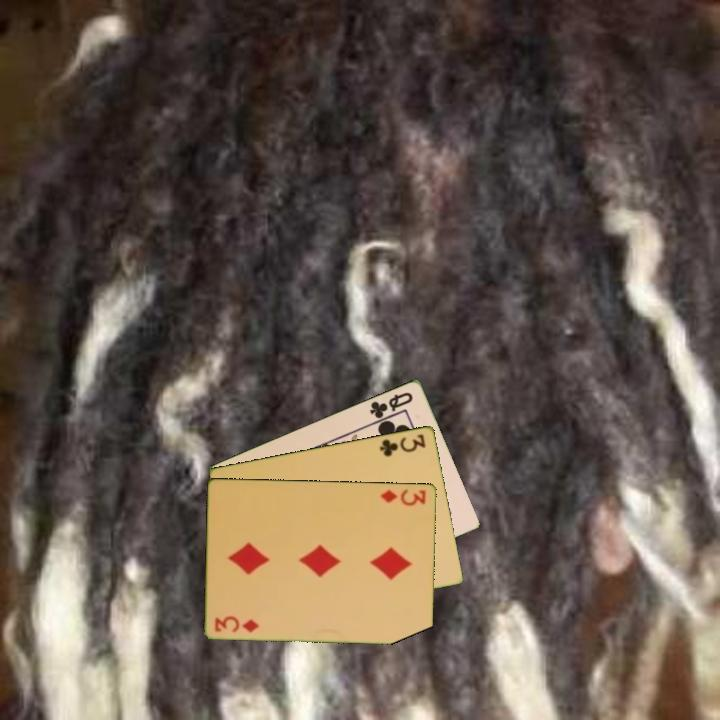3c: (376, 430, 429, 459)
3d: (377, 485, 428, 508), (211, 613, 262, 635)
Qc: (366, 388, 416, 425)
